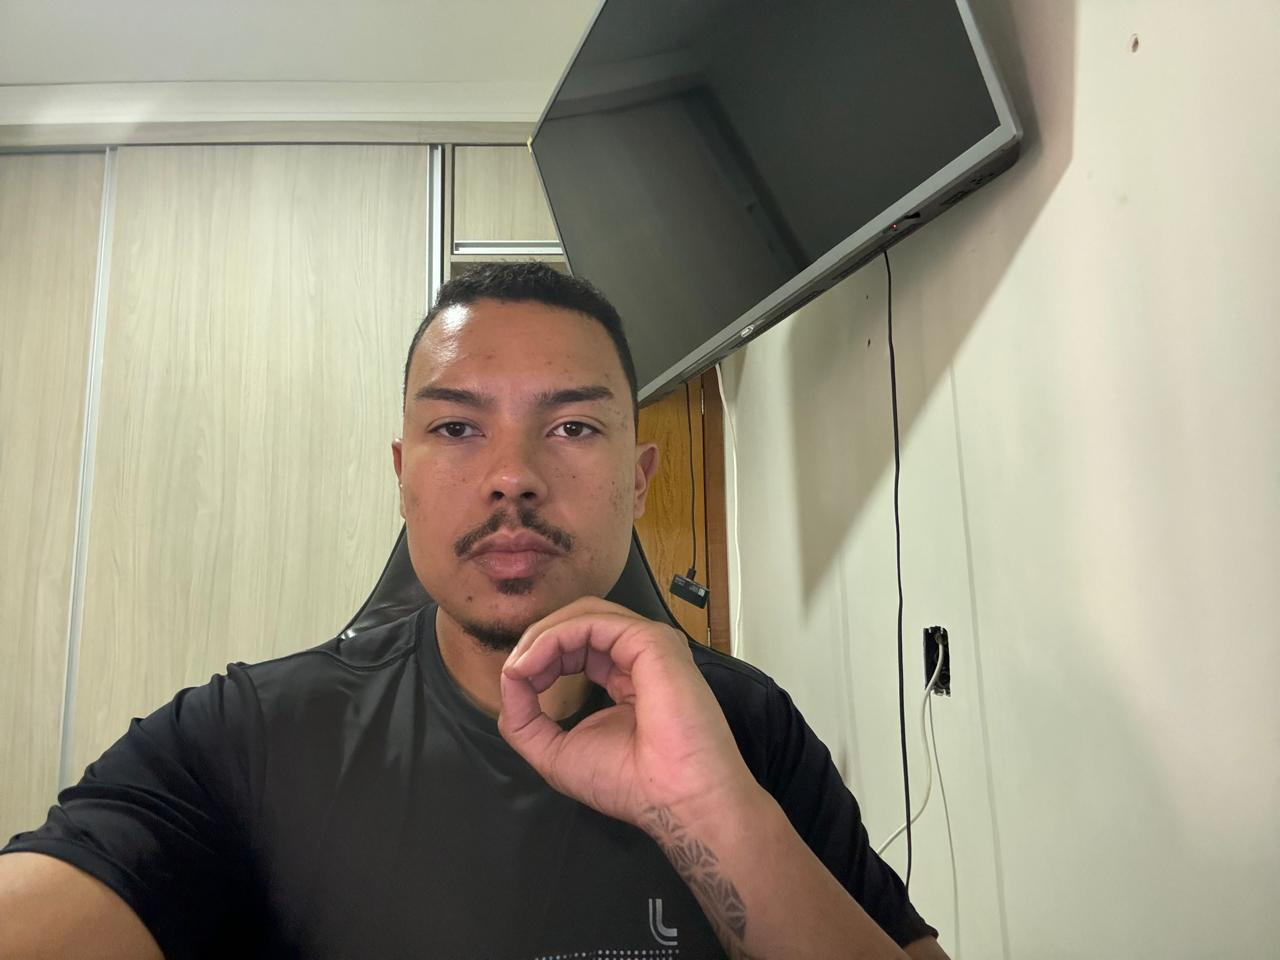o: (489, 588, 747, 812)
